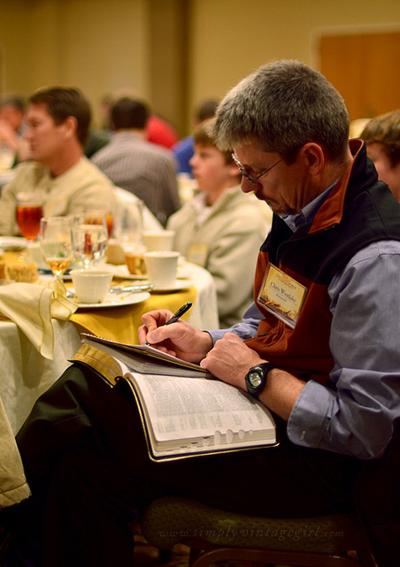person: (110, 61, 399, 506)
